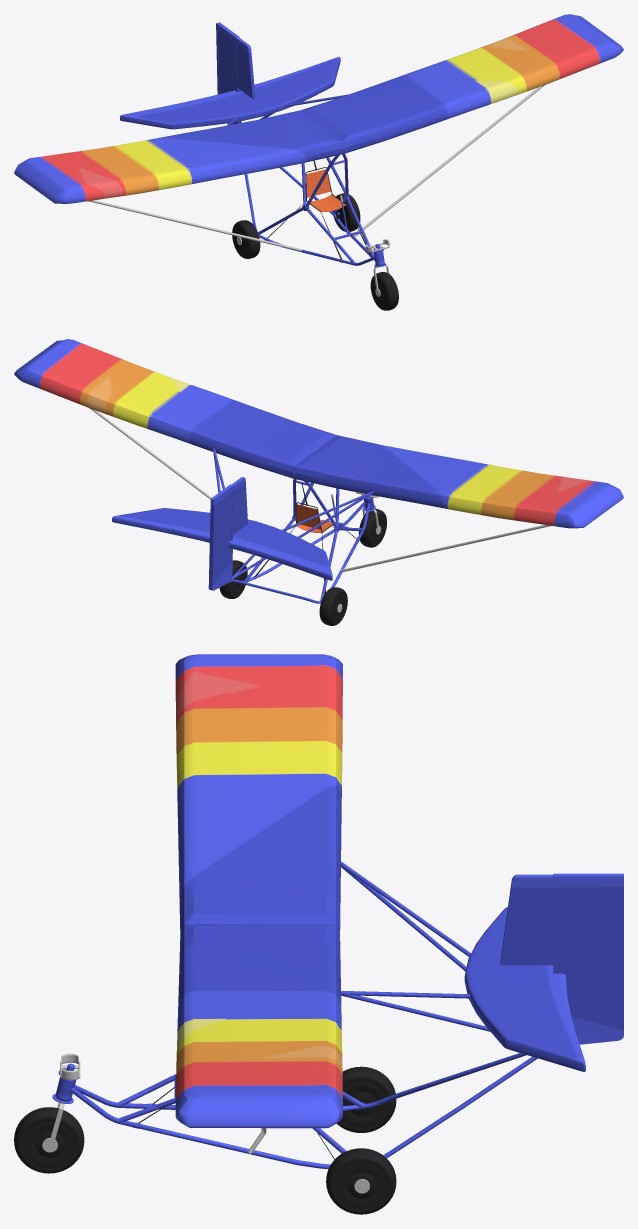
File: utralightcraft@idle.fbx
3 renders of one model, top to bottom at view 1: azimuth 30°, elevation 25°; view 2: azimuth 150°, elevation 25°; view 3: azimuth 270°, elevation 25°, orthographic. The views are drawn at different scales.
Parts seen in each view (by area): view 1: car_fixed24:car_fixed23:models_f19:models_f18:models_f17:mod; view 2: car_fixed24:car_fixed23:models_f19:models_f18:models_f17:mod; view 3: car_fixed24:car_fixed23:models_f19:models_f18:models_f17:mod.
Boxes of the visible parts, box(x1,y1,x2,y2) form: car_fixed24:car_fixed23:models_f19:models_f18:models_f17:mod: box(14, 14, 623, 310); car_fixed24:car_fixed23:models_f19:models_f18:models_f17:mod: box(14, 339, 623, 625); car_fixed24:car_fixed23:models_f19:models_f18:models_f17:mod: box(14, 654, 623, 1214).
Bounding box in the file's own units: 25.85 × 7.54 × 13.66.
1 material, 1 textured.
